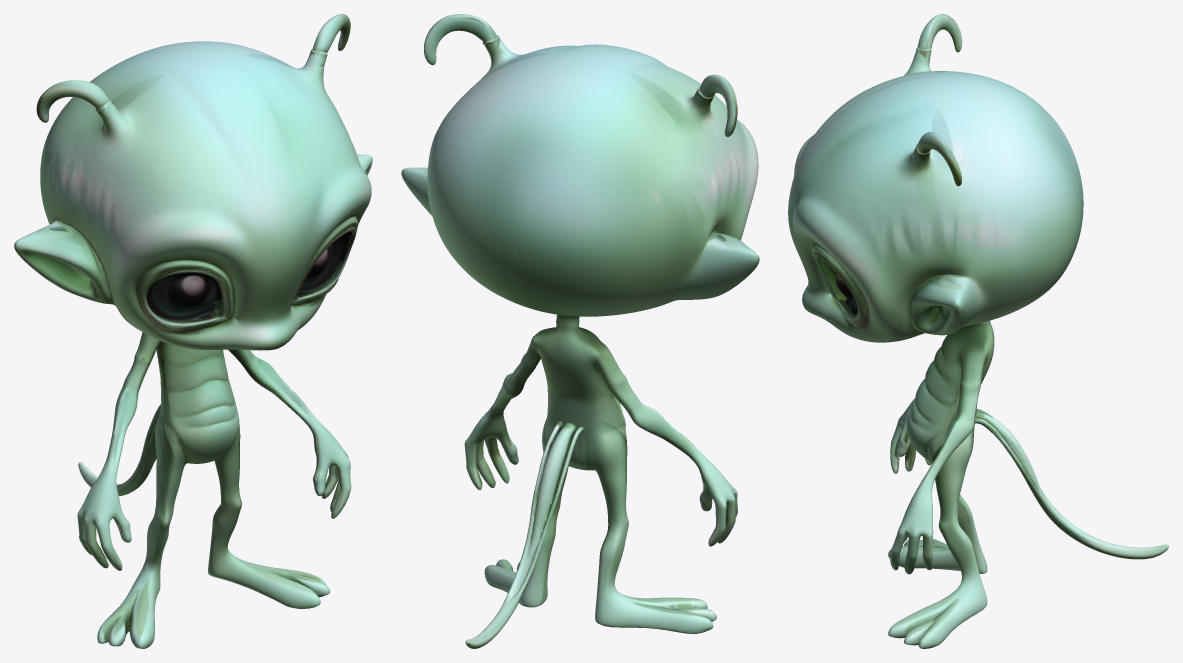
The model's file is Alien 01.fbx.
3 views of the same model, side by side, from view 1: azimuth 30°, elevation 25°; view 2: azimuth 150°, elevation 25°; view 3: azimuth 270°, elevation 25° (orthographic). The views are drawn at different scales.
Visible parts, largest first — view 1: model; view 2: model; view 3: model.
Boxes of the visible parts, box(x1,y1,x2,y2) form: model: box(14, 14, 372, 648); model: box(401, 14, 759, 648); model: box(788, 14, 1168, 648).
Size of the model in its own units: 126 by 190 by 125.
1 material, 1 textured.
